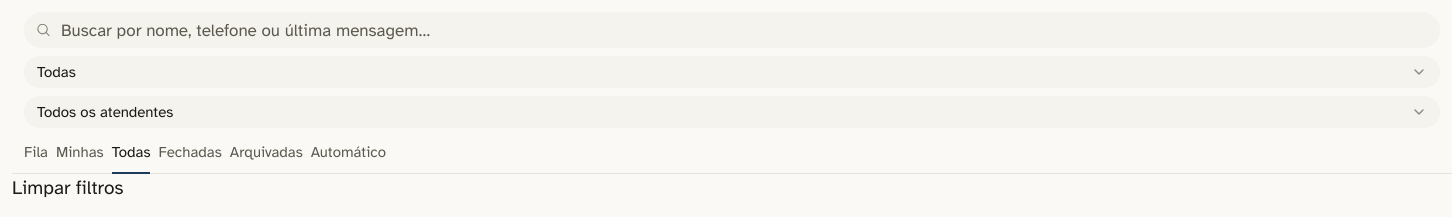
Scenario: "Limpar filtros" e o campo de busca › ⛔ CONTROLE: o que ainda está sendo digitado NÃO é atropelado
Type "ab" into the field named "Buscar conversas" at (732, 30), box [24,12,1440,48]
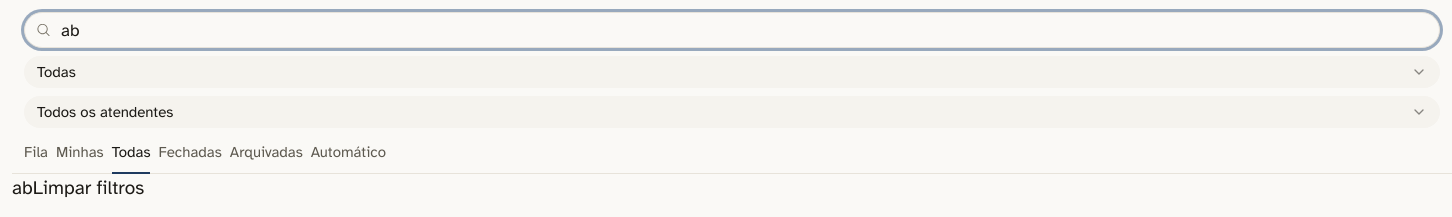
Expected: the text "ab" is shown, [12,176,33,200]
A pessoa continua digitando DEPOIS de o debounce ter propagado "ab".
Type "c" into the field named "Buscar conversas" at (732, 30), box [24,12,1440,48]
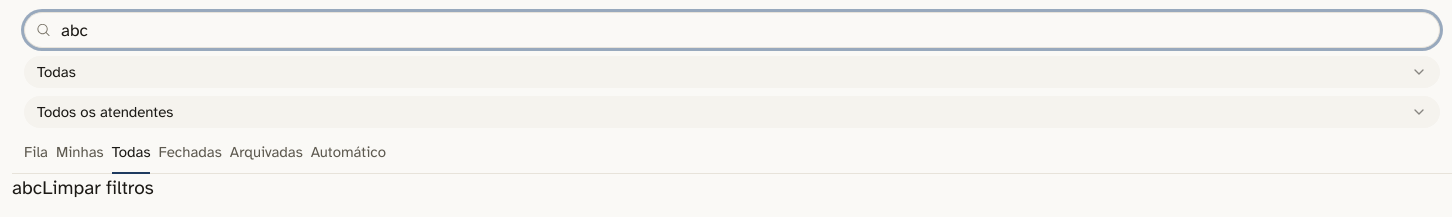
Expected: the field named "Buscar conversas" holds "abc", [24,12,1440,48]
